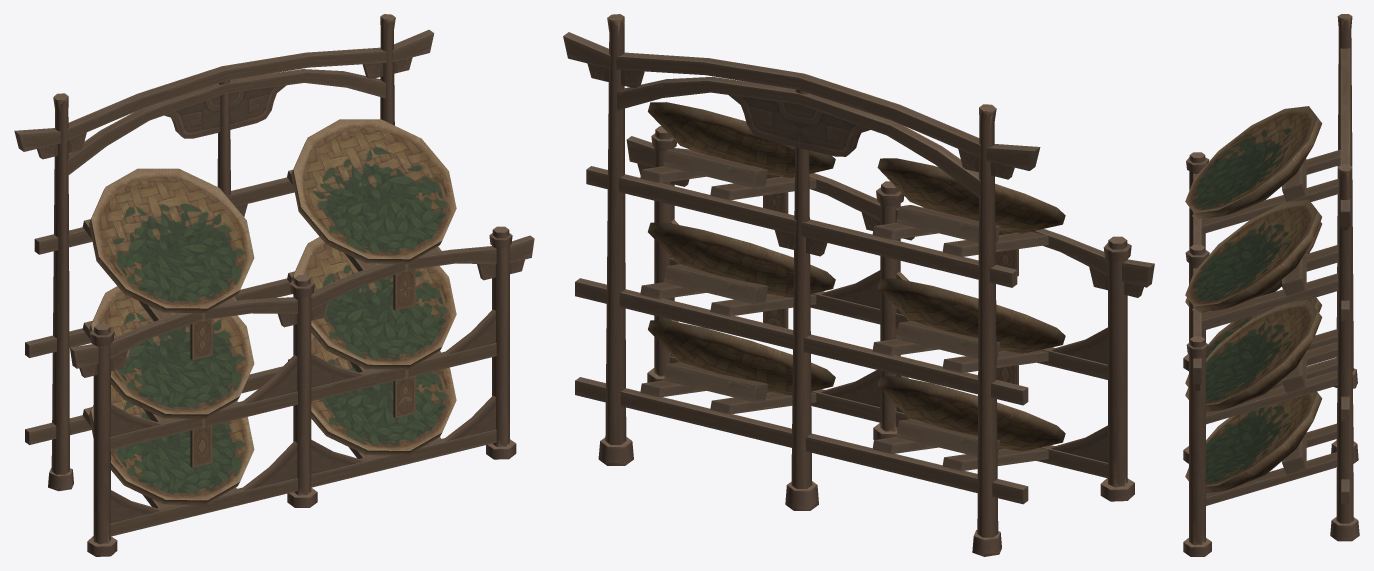
The model's file is Homeworld_Interior_Cyg_Decoration_Prop_Shaicha_01_Lod0.fbx.
The picture shows the model from 3 angles, left to right: view 1: azimuth 30°, elevation 25°; view 2: azimuth 150°, elevation 25°; view 3: azimuth 270°, elevation 25°; orthographic projection. The views are drawn at different scales.
Parts seen in each view (by area): view 1: Indoor_Cyg_Prop_QYZ_Shaicha_02_Lod0; view 2: Indoor_Cyg_Prop_QYZ_Shaicha_02_Lod0; view 3: Indoor_Cyg_Prop_QYZ_Shaicha_02_Lod0.
Boxes of the visible parts, bbox=[...] form: Indoor_Cyg_Prop_QYZ_Shaicha_02_Lod0: bbox=[14, 14, 534, 556]; Indoor_Cyg_Prop_QYZ_Shaicha_02_Lod0: bbox=[563, 14, 1154, 556]; Indoor_Cyg_Prop_QYZ_Shaicha_02_Lod0: bbox=[1183, 14, 1359, 556].
Bounding box in the file's own units: 3.4 × 2.75 × 1.19.
